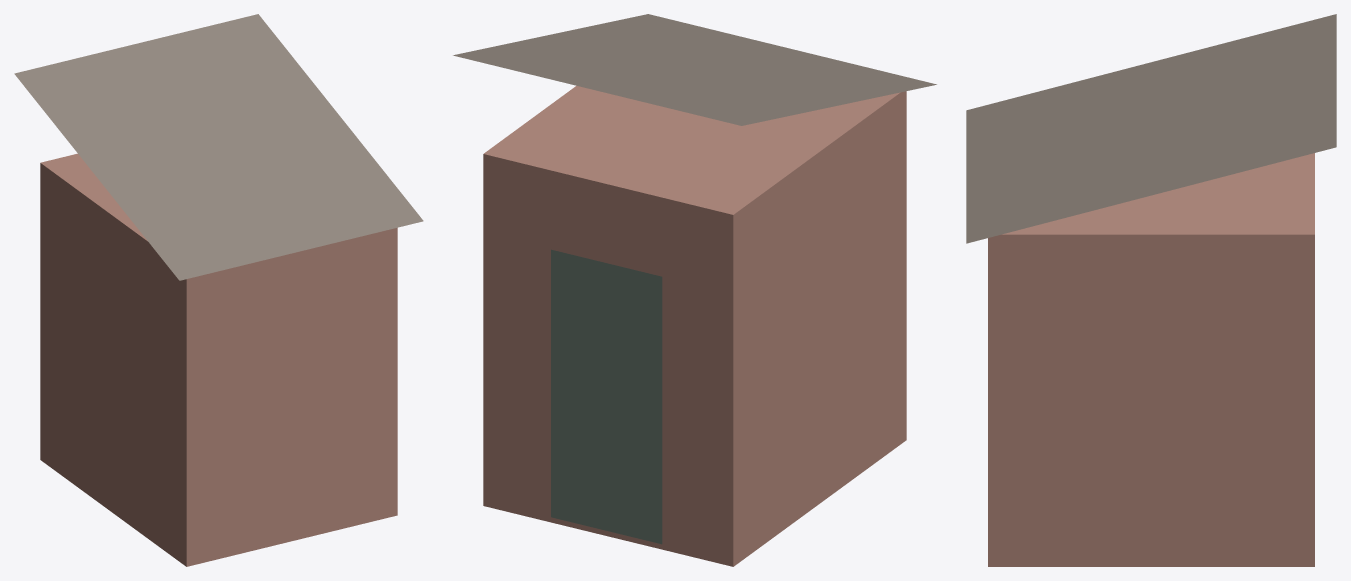
File: recon_1835_north_a3_009__recommended_1835.glb
The picture shows the model from 3 angles, left to right: view 1: azimuth 30°, elevation 25°; view 2: azimuth 150°, elevation 25°; view 3: azimuth 270°, elevation 25°; orthographic projection. The views are drawn at different scales.
Visible parts, largest first — view 1: recon_1835_north_a3_009__recommended_1835; view 2: recon_1835_north_a3_009__recommended_1835; view 3: recon_1835_north_a3_009__recommended_1835.
Boxes of the visible parts, x1,y1,x2,y2 form: recon_1835_north_a3_009__recommended_1835: (14, 14, 423, 566); recon_1835_north_a3_009__recommended_1835: (453, 14, 936, 566); recon_1835_north_a3_009__recommended_1835: (966, 14, 1336, 566).
Size of the model in its own units: 1.76 by 2.64 by 2.07.
